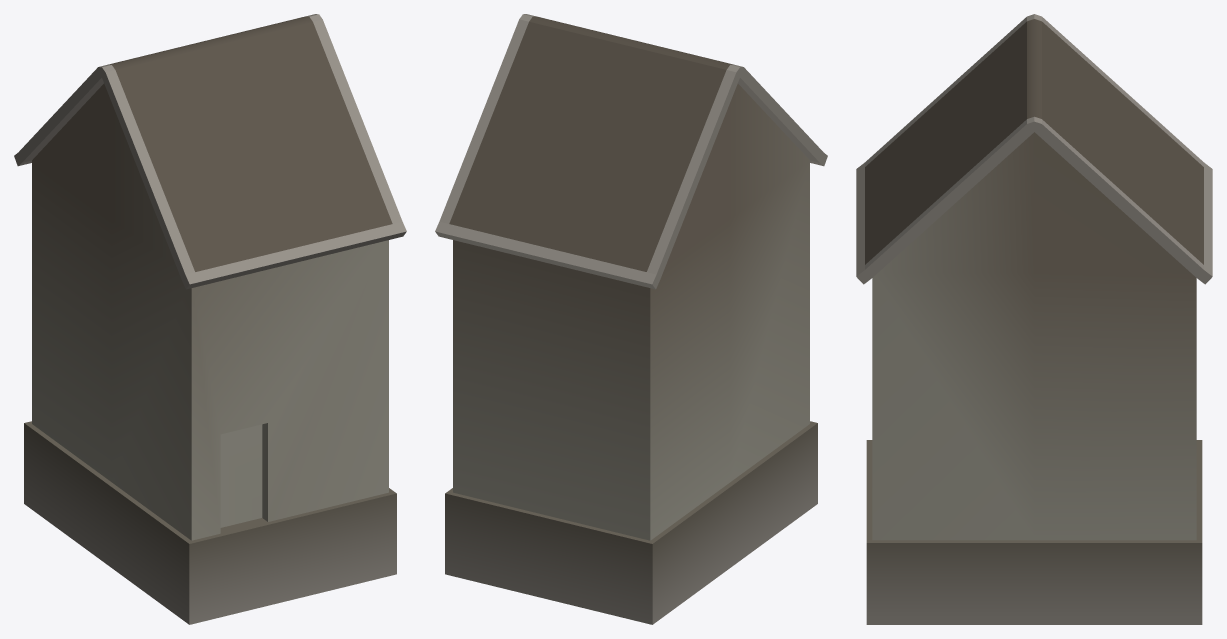
The model's file is Base-RowHouse_A.fbx.
The picture shows the model from 3 angles, left to right: view 1: azimuth 30°, elevation 25°; view 2: azimuth 150°, elevation 25°; view 3: azimuth 270°, elevation 25°; orthographic projection.
Visible parts, largest first — view 1: Base-RowHouse_A; view 2: Base-RowHouse_A; view 3: Base-RowHouse_A.
Boxes of the visible parts, left/top/right/bottom form: Base-RowHouse_A: left=14, top=14, right=406, bottom=624; Base-RowHouse_A: left=435, top=14, right=827, bottom=624; Base-RowHouse_A: left=856, top=14, right=1212, bottom=624.
Size of the model in its own units: 550 by 1206 by 771.
